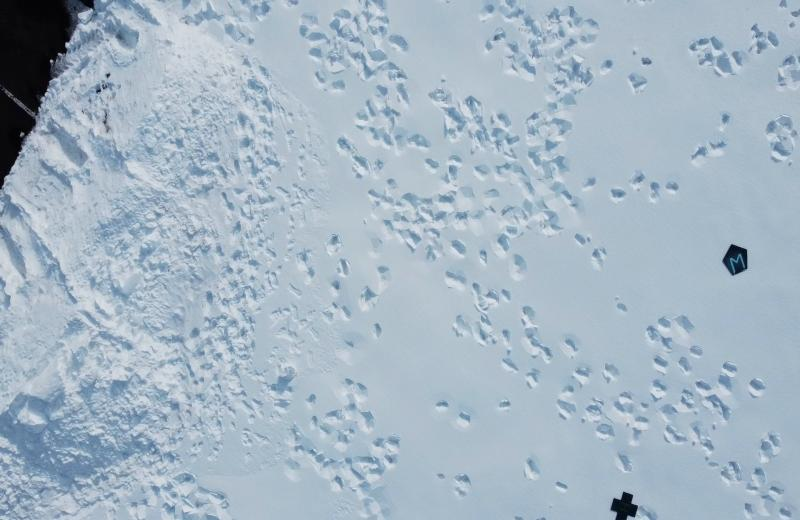Cross: (610, 492, 640, 519)
